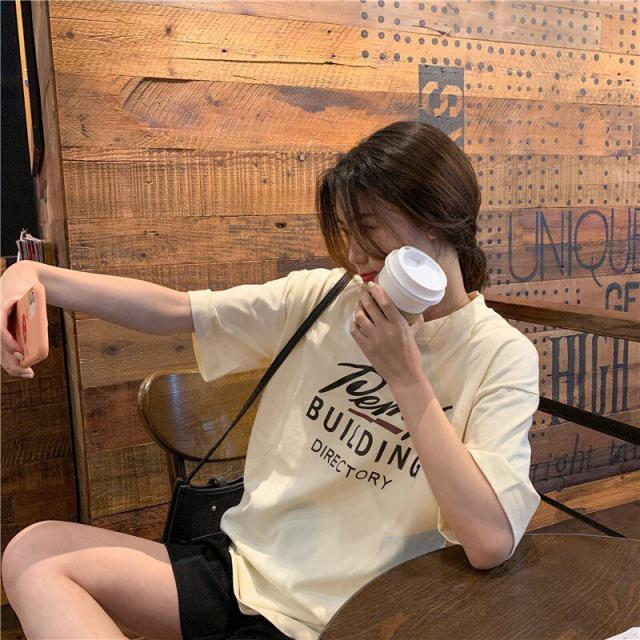Shirt: (188, 267, 546, 638)
